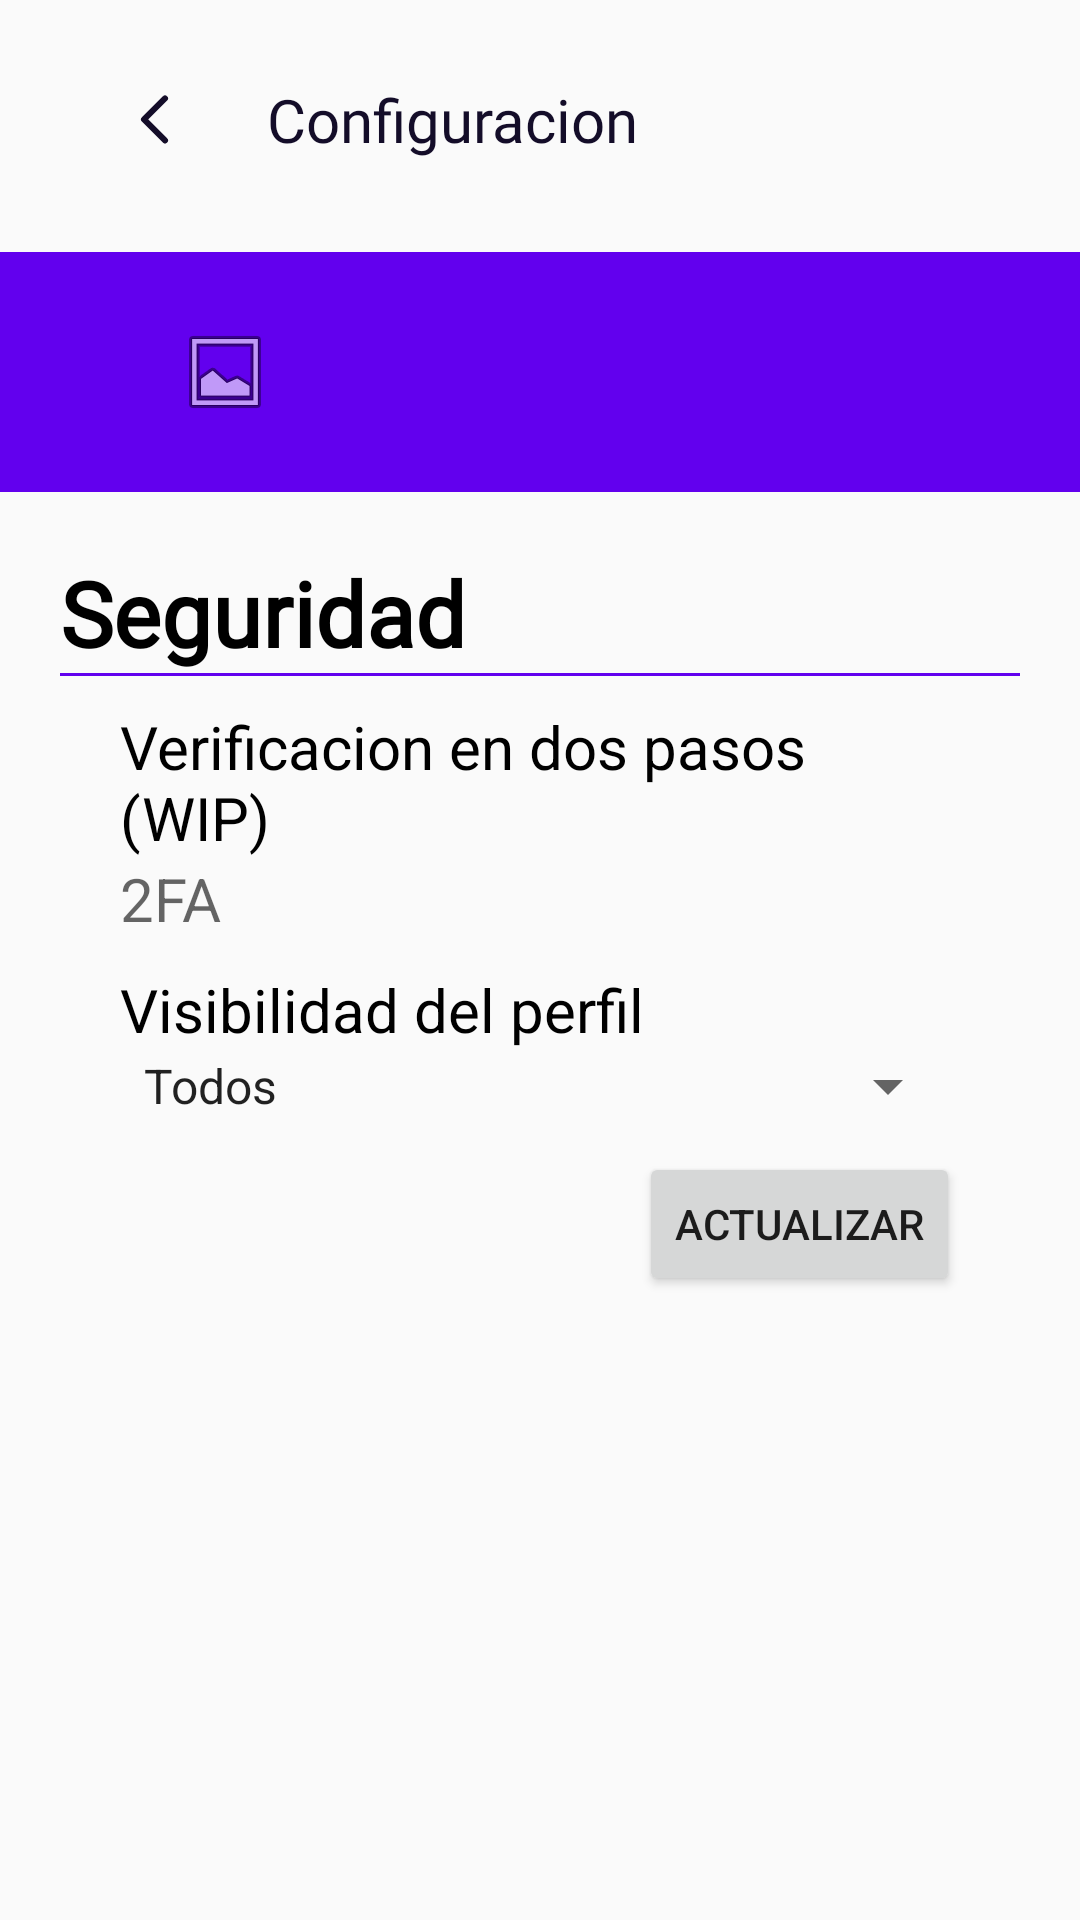

Icon bounding boxes for this 1080 × 1920 phone screenshot, format (x1, y1, x2, y2):
flecha atras: (140, 95, 169, 144)
gallery: (189, 336, 261, 408)
